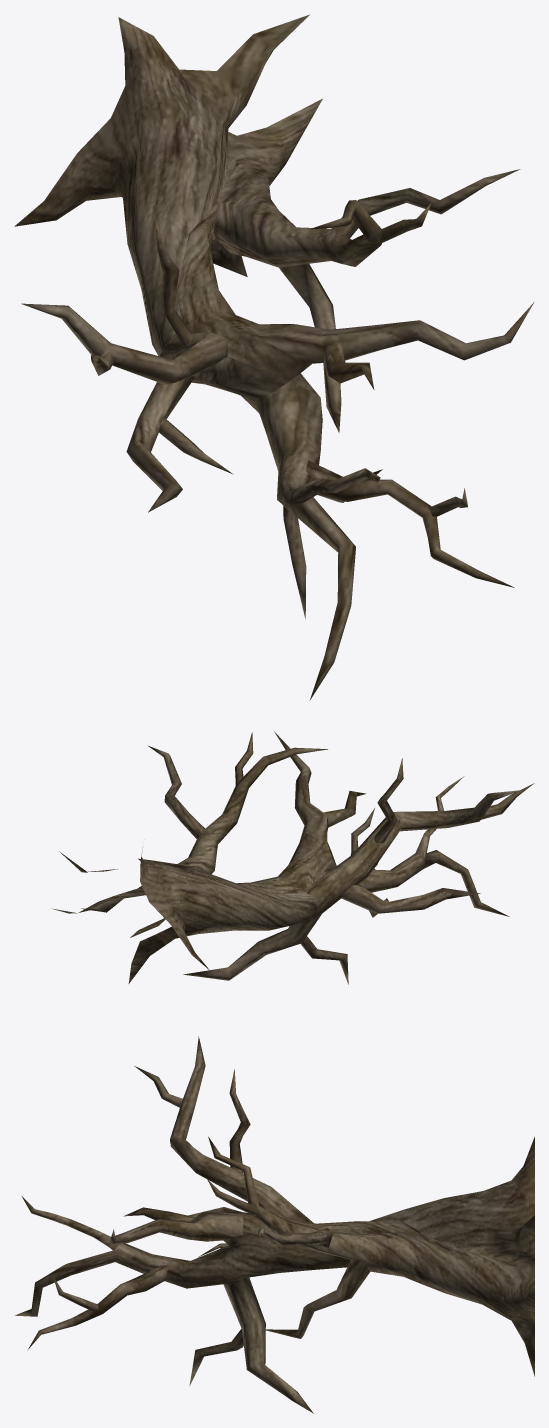
3 views of the same model, one above another, from view 1: azimuth 30°, elevation 25°; view 2: azimuth 150°, elevation 25°; view 3: azimuth 270°, elevation 25° (orthographic). The views are drawn at different scales.
Parts seen in each view (by area): view 1: model_Object118; view 2: model_Object118; view 3: model_Object118.
Part boxes in pixels (x1,y1,x2,y2): model_Object118: [14, 14, 534, 700]; model_Object118: [52, 731, 534, 984]; model_Object118: [15, 1036, 534, 1413].
Bounding box in the file's own units: 2.85 × 2.04 × 3.44.
1 material, 1 textured.
